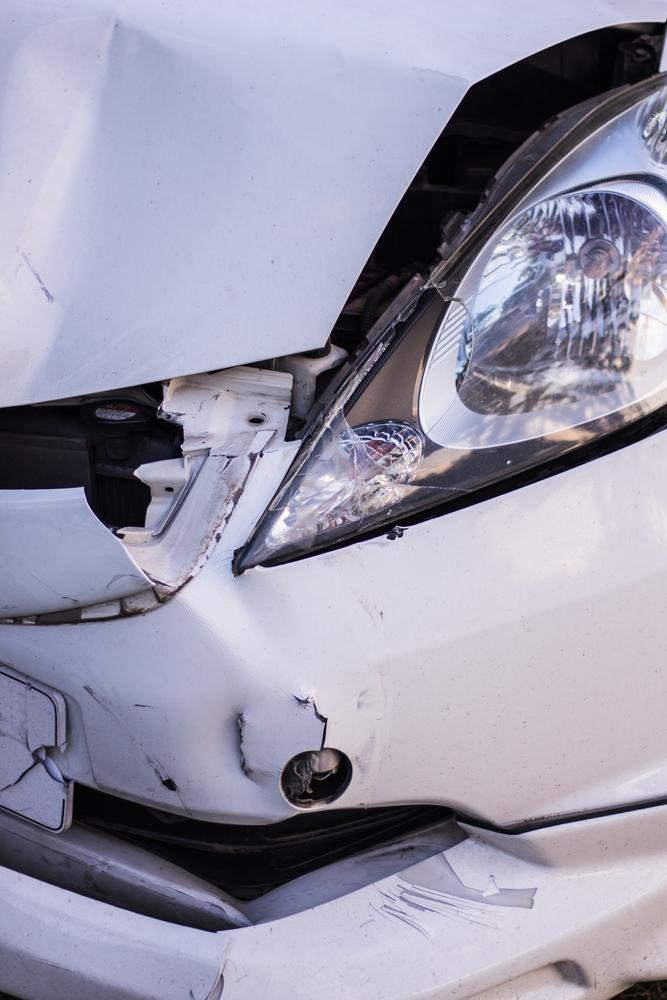crack: (0, 684, 65, 791), (234, 710, 261, 789), (294, 693, 329, 750), (146, 758, 180, 792)
dent: (0, 17, 249, 406)
lamp broken: (239, 82, 667, 572)
